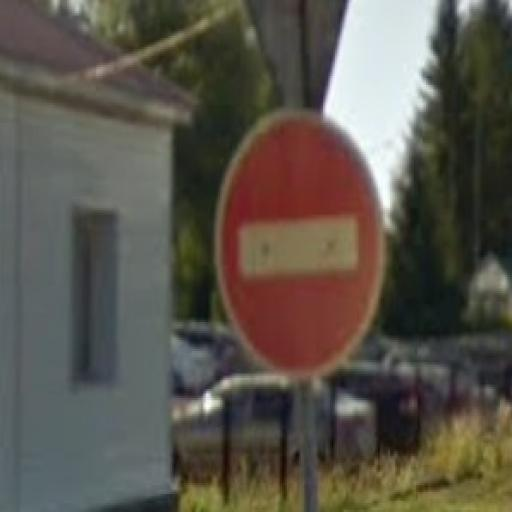traffic_sign: (214, 108, 388, 381)
